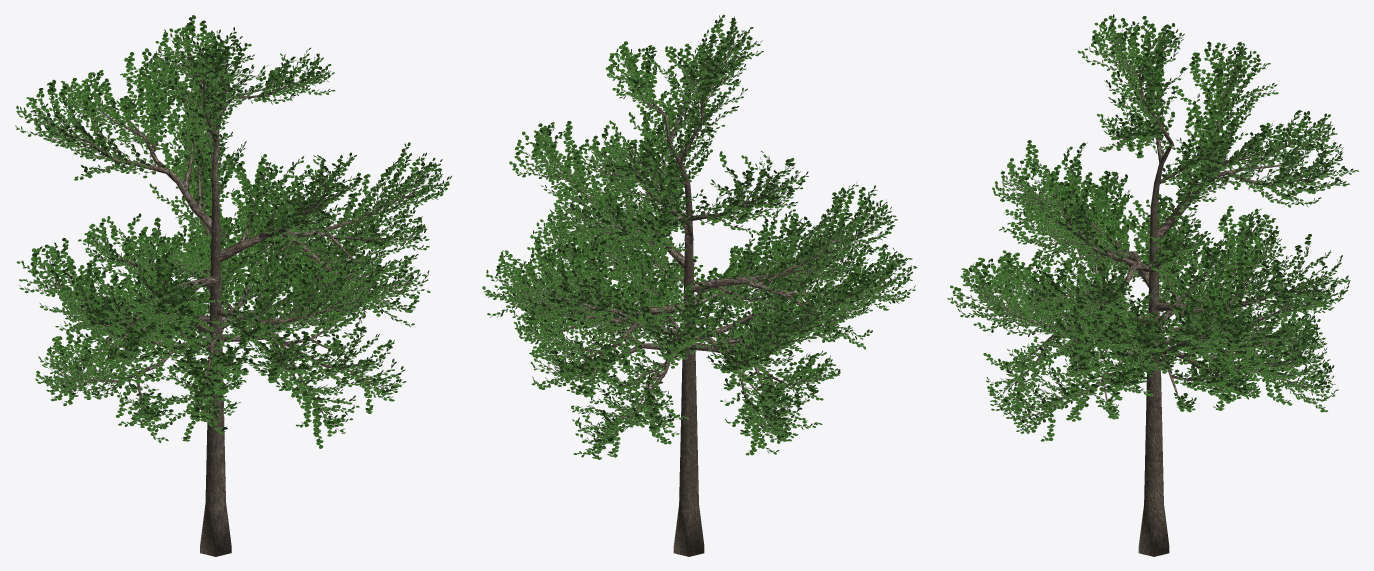
Rendered from tree.fbx.
3 views of the same model, side by side, from view 1: azimuth 30°, elevation 25°; view 2: azimuth 150°, elevation 25°; view 3: azimuth 270°, elevation 25° (orthographic). The views are drawn at different scales.
Visible parts, largest first — view 1: tree.leaves, tree; view 2: tree.leaves, tree; view 3: tree.leaves, tree.
Boxes of the visible parts, x1,y1,x2,y2 form: tree.leaves: [15, 15, 451, 448]; tree: [19, 21, 447, 556]; tree.leaves: [482, 14, 917, 459]; tree: [489, 23, 912, 556]; tree.leaves: [947, 14, 1359, 441]; tree: [956, 19, 1352, 556].
Bounding box in the file's own units: 2756 × 3703 × 2652.
2 materials, 2 textured.
